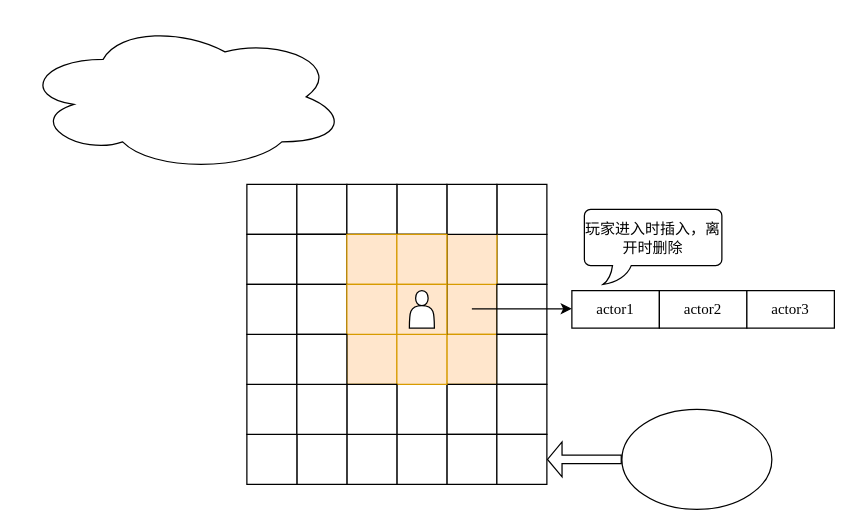
This 856x531 diagram has some shape labels left out. Here are the shapes that lost their labels. From the top down, the box of each, then its label:
(21, 21, 347, 172): 阴影部分代表玩家的视野范围
(621, 408, 772, 509): 将整张地图拆分成若干个N*N的格子
